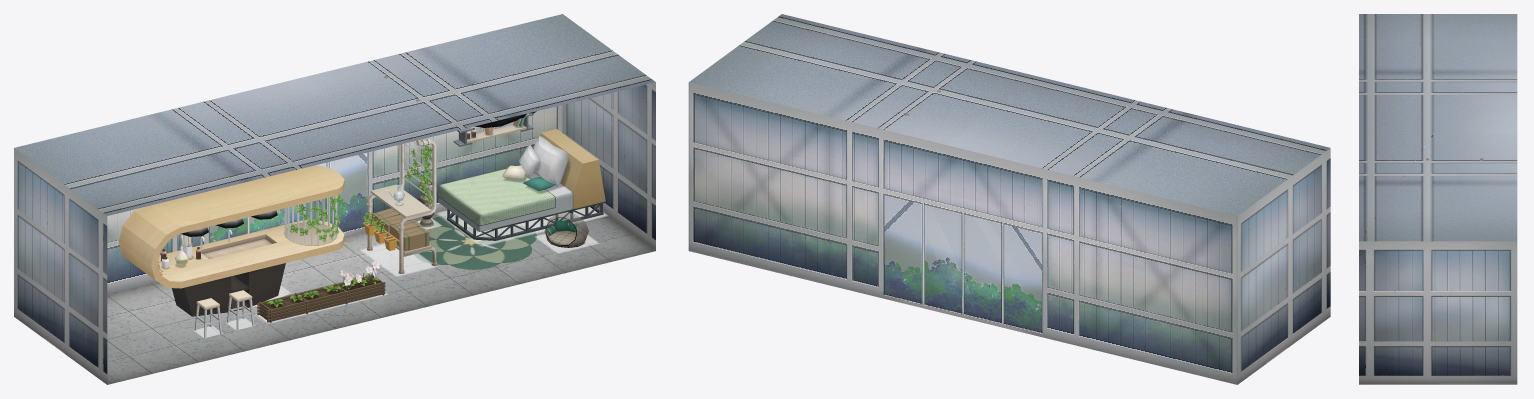
Rendered from perfumer.glb.
3 views of the same model, side by side, from view 1: azimuth 30°, elevation 25°; view 2: azimuth 150°, elevation 25°; view 3: azimuth 270°, elevation 25° (orthographic). The views are drawn at different scales.
Visible parts, largest first — view 1: ROOM_room, ROOM_floor, furni_perfumer_bar_01, furni_perfumer_bed_01, furni_perfumer_shelf_01, furni_perfumer_carpet_01, furni_perfumer_flowerPot_01, furni_perfumer_bed_02, ROOM_LDoor, ROOM_RDoor, shadow.005, shadow.004 (+9 smaller); view 2: ROOM_room, ROOM_LDoor; view 3: ROOM_room, ROOM_RDoor.
Part boxes in pixels (x1=…): ROOM_room: x1=14, y1=14, x2=655, y2=384; ROOM_floor: x1=107, y1=207, x2=655, y2=384; furni_perfumer_bar_01: x1=118, y1=165, x2=344, y2=316; furni_perfumer_bed_01: x1=438, y1=129, x2=605, y2=240; furni_perfumer_shelf_01: x1=363, y1=76, x2=437, y2=273; furni_perfumer_carpet_01: x1=414, y1=215, x2=536, y2=269; furni_perfumer_flowerPot_01: x1=257, y1=274, x2=385, y2=322; furni_perfumer_bed_02: x1=502, y1=135, x2=567, y2=190; ROOM_LDoor: x1=74, y1=284, x2=93, y2=374; ROOM_RDoor: x1=623, y1=150, x2=642, y2=240; shadow.005: x1=436, y1=207, x2=607, y2=246; shadow.004: x1=360, y1=244, x2=436, y2=276; ROOM_room: x1=688, y1=14, x2=1330, y2=384; ROOM_LDoor: x1=1297, y1=250, x2=1316, y2=340; ROOM_room: x1=1359, y1=14, x2=1517, y2=384; ROOM_RDoor: x1=1382, y1=319, x2=1414, y2=384.
Size of the model in its own units: 7.55 by 2.21 by 2.24.
Materials: 8 (8 with a texture image).
